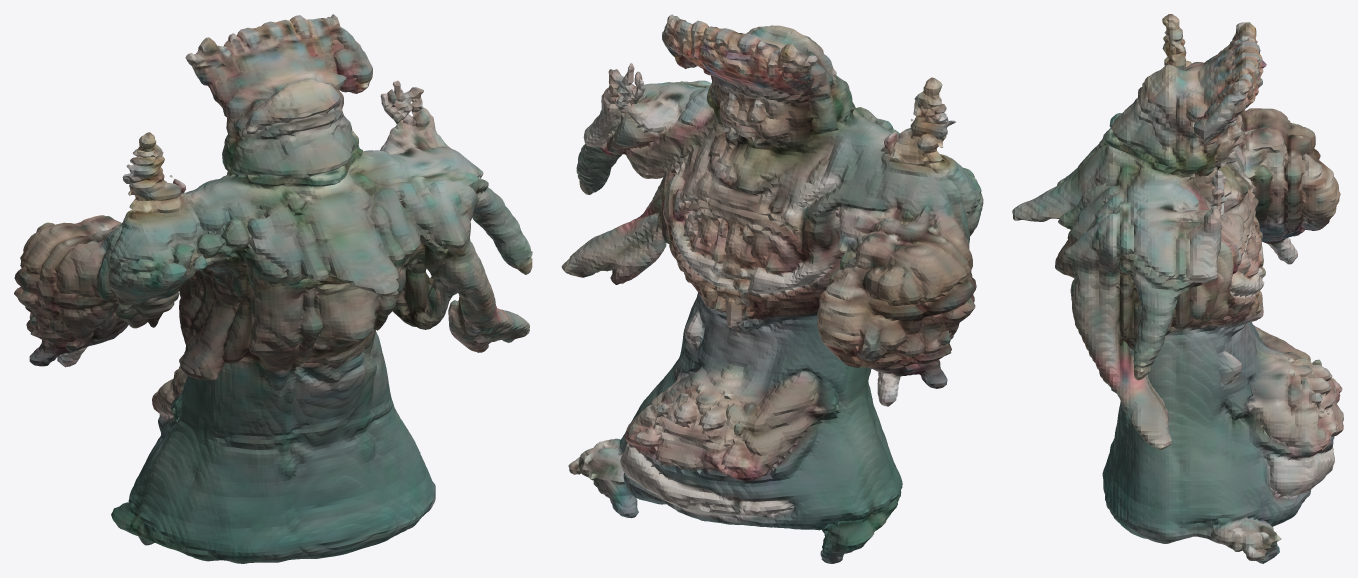
The model's file is tmpsgqyf6o6.glb.
3 views of the same model, side by side, from view 1: azimuth 30°, elevation 25°; view 2: azimuth 150°, elevation 25°; view 3: azimuth 270°, elevation 25° (orthographic). The views are drawn at different scales.
Parts seen in each view (by area): view 1: world; view 2: world; view 3: world.
Boxes of the visible parts, box(x1,y1,x2,y2) form: world: box(14, 14, 532, 563); world: box(561, 14, 983, 563); world: box(1012, 14, 1343, 563).
Bounding box in the file's own units: 0.9661 × 1.01 × 0.6471.
